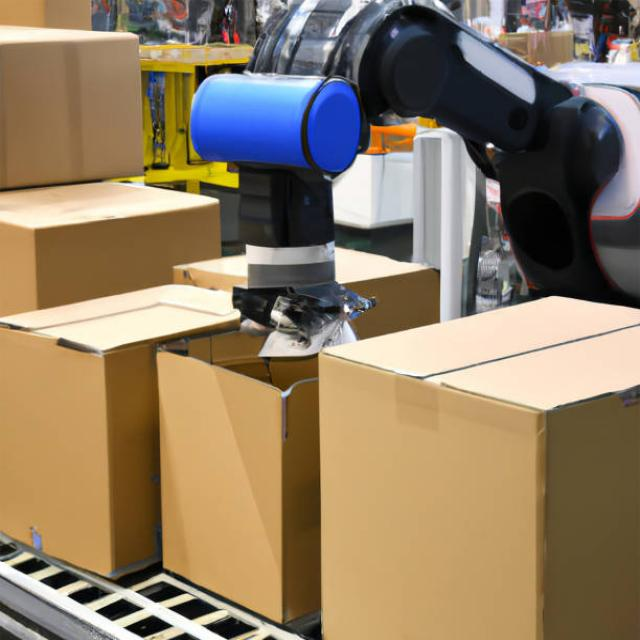Robotic-arm: (187, 0, 640, 334)
